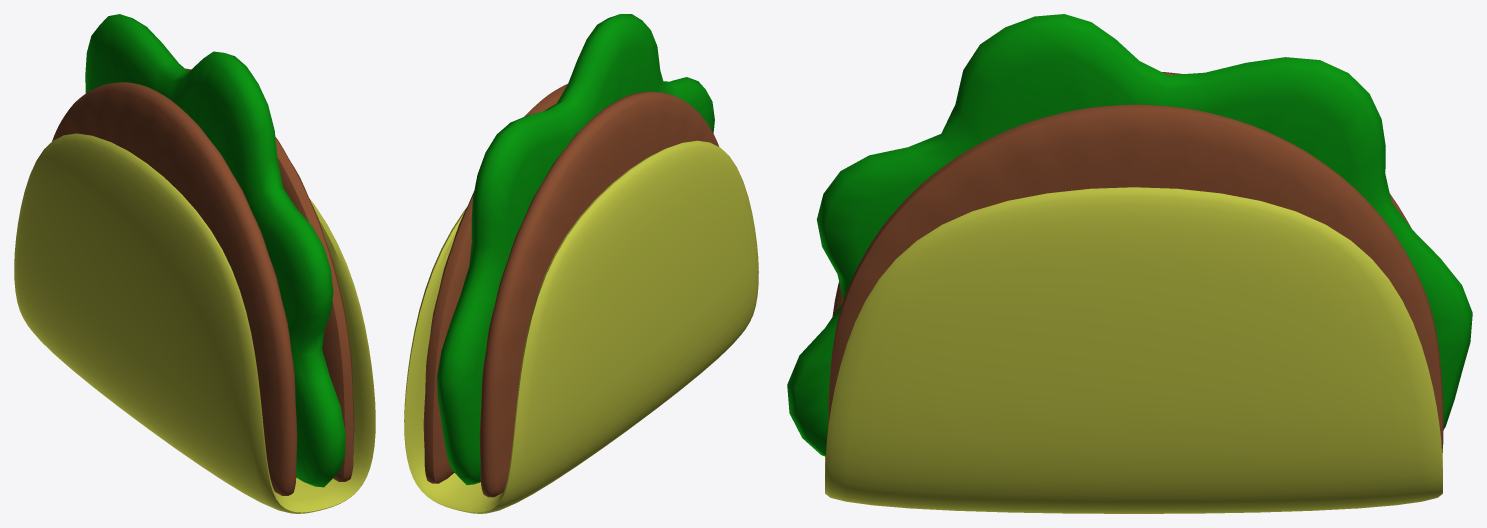
Rendered from Comida_VR04.fbx.
The picture shows the model from 3 angles, left to right: view 1: azimuth 30°, elevation 25°; view 2: azimuth 150°, elevation 25°; view 3: azimuth 270°, elevation 25°; orthographic projection. The views are drawn at different scales.
Visible parts, largest first — view 1: Taco; view 2: Taco; view 3: Taco.
Boxes of the visible parts, x1=… form: Taco: x1=14, y1=14, x2=375, y2=513; Taco: x1=404, y1=14, x2=758, y2=513; Taco: x1=787, y1=14, x2=1472, y2=513.
Bounding box in the file's own units: 53.62 × 148 × 188.
